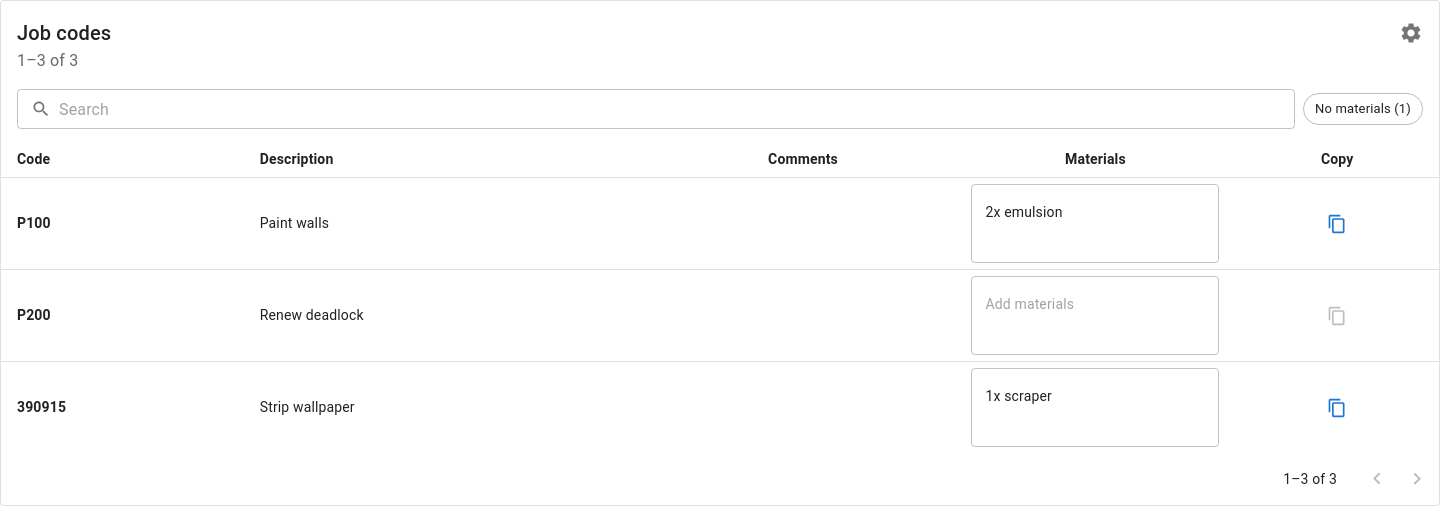
Test: searching and the empty-materials queue › shows every row again after hiding search with a query still typed
Type "deadlock" into the field named "Search job codes" at (677, 109), box 59,89 -> 1295,129
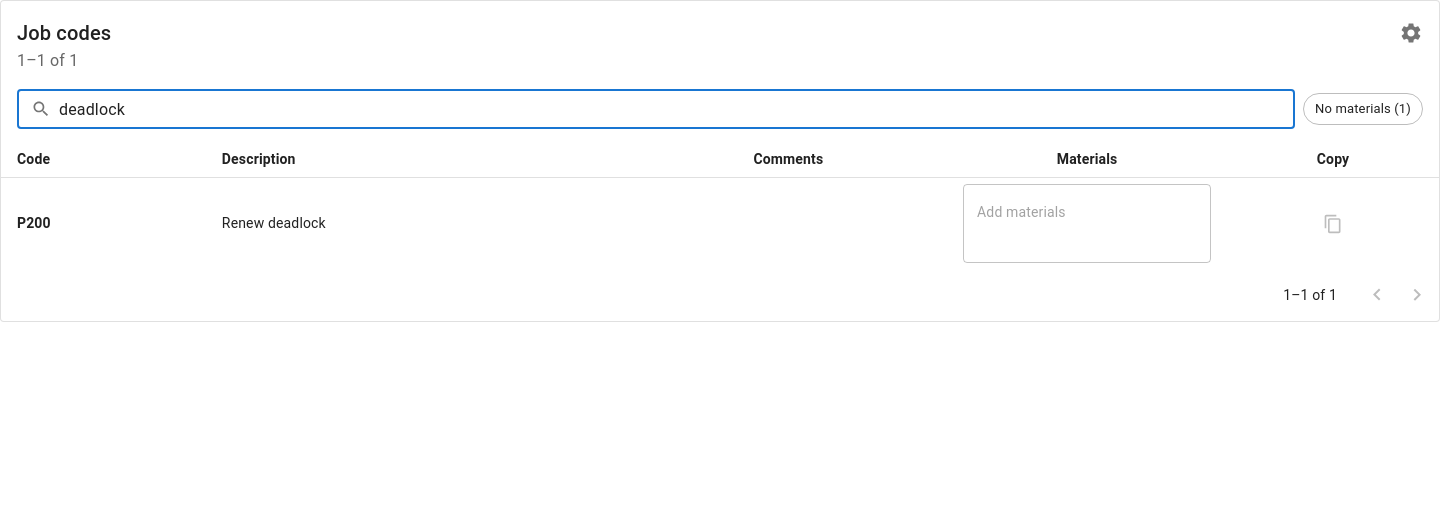
Click the button named "Columns" at (1411, 33), box 1391,13 -> 1431,53
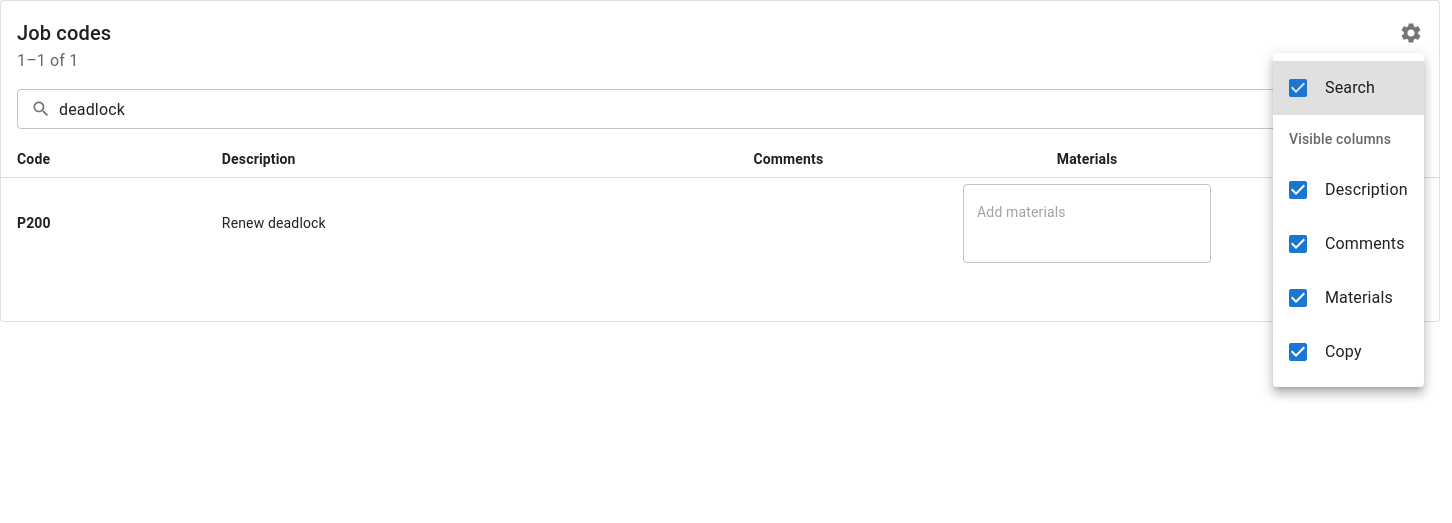
Click the menu item "Search" at (1348, 88), box 1273,61 -> 1424,115
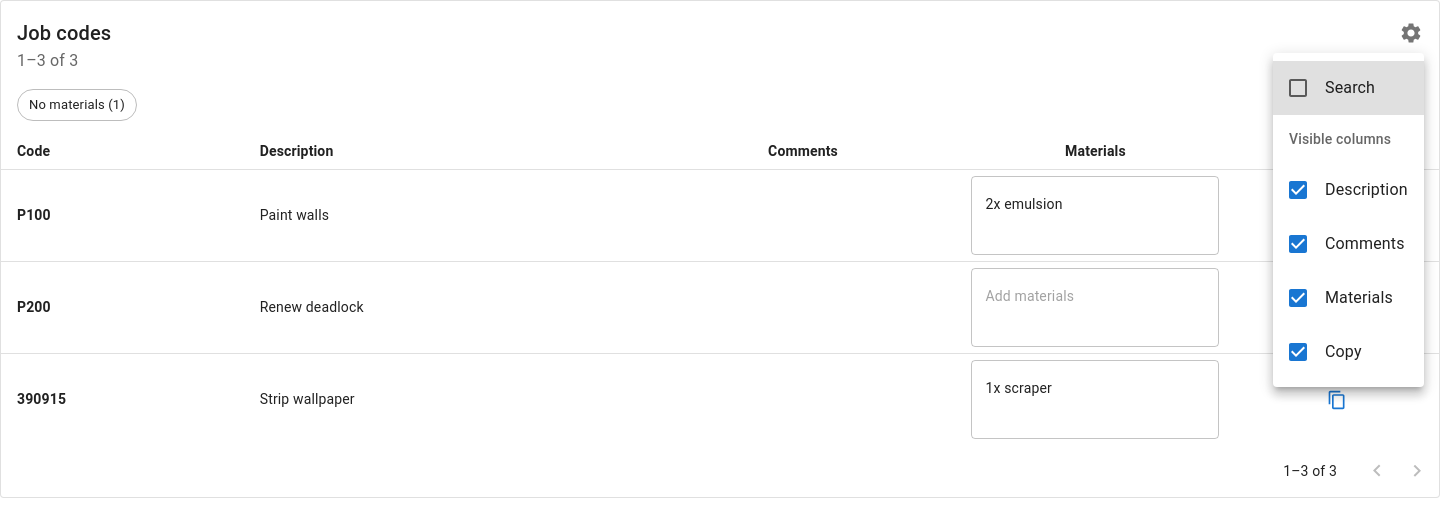
Expected: the text "P200" is shown, 1,262 -> 244,354
Result: the text "P100" is shown at 1,170 -> 244,262
Result: the text "390915" is shown at 1,354 -> 244,445
